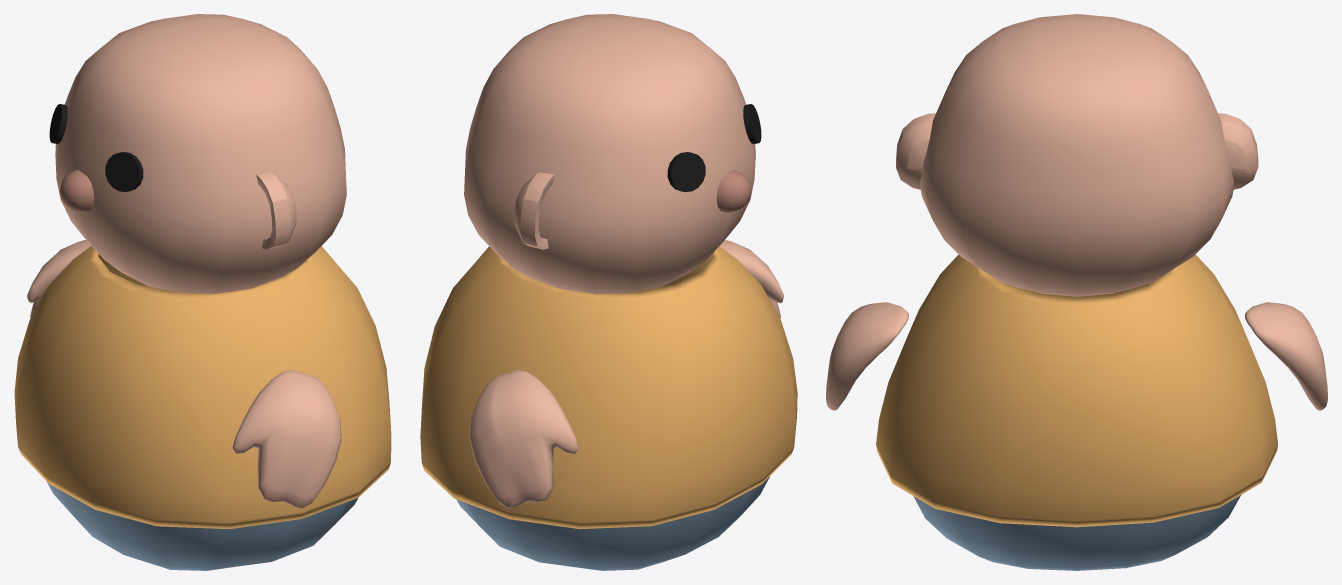
File: player.fbx
3 views of the same model, side by side, from view 1: azimuth 30°, elevation 25°; view 2: azimuth 150°, elevation 25°; view 3: azimuth 270°, elevation 25° (orthographic).
Parts seen in each view (by area): view 1: Top, Head, Hands, Bottom, Ears, Eyes, Nose; view 2: Top, Head, Hands, Bottom, Ears, Eyes, Nose; view 3: Top, Head, Bottom, Hands, Ears.
Part boxes in pixels (x1=…): Top: x1=14, y1=246, x2=391, y2=529; Head: x1=55, y1=14, x2=346, y2=293; Hands: x1=27, y1=240, x2=341, y2=508; Bottom: x1=46, y1=481, x2=358, y2=570; Ears: x1=256, y1=172, x2=296, y2=249; Eyes: x1=49, y1=104, x2=143, y2=191; Nose: x1=59, y1=169, x2=94, y2=212; Top: x1=420, y1=246, x2=797, y2=528; Head: x1=464, y1=14, x2=755, y2=294; Hands: x1=469, y1=240, x2=783, y2=508; Bottom: x1=456, y1=476, x2=769, y2=570; Ears: x1=514, y1=172, x2=554, y2=249; Eyes: x1=667, y1=104, x2=761, y2=192; Nose: x1=716, y1=170, x2=751, y2=212; Top: x1=876, y1=254, x2=1277, y2=527; Head: x1=920, y1=14, x2=1233, y2=296; Bottom: x1=913, y1=495, x2=1240, y2=570; Hands: x1=826, y1=302, x2=1327, y2=410; Ears: x1=896, y1=113, x2=1258, y2=189.
Bounding box in the file's own units: 294 × 440 × 400.
